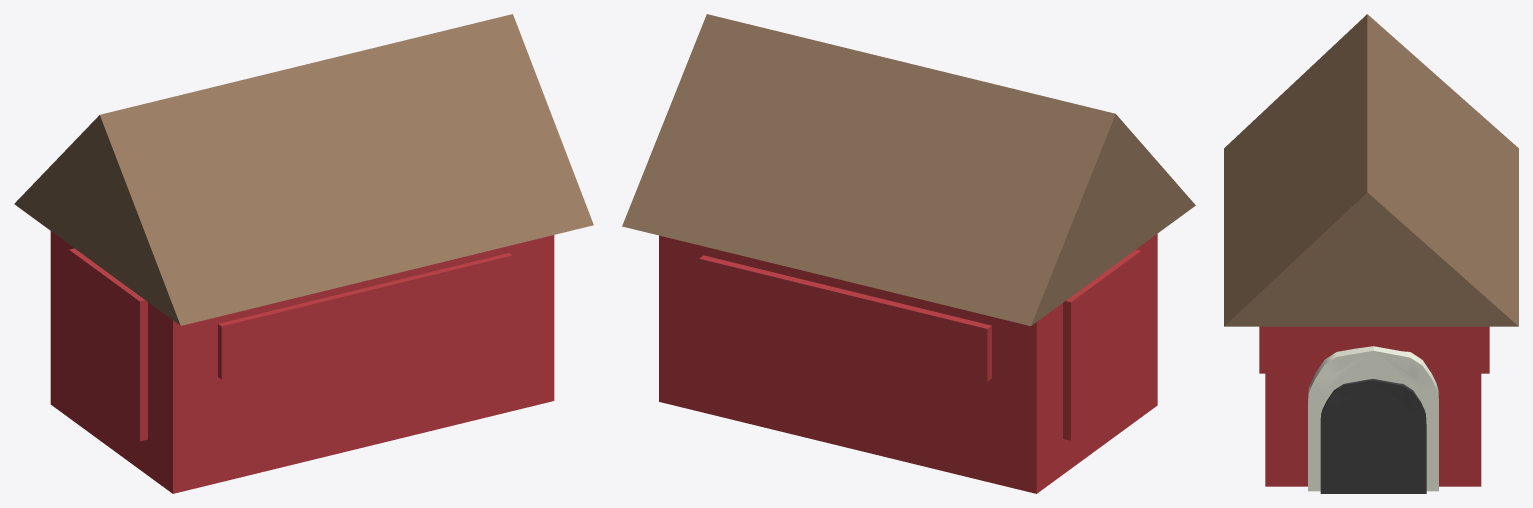
The model's file is dogHouse.glb.
3 renders of one model, left to right at view 1: azimuth 30°, elevation 25°; view 2: azimuth 150°, elevation 25°; view 3: azimuth 270°, elevation 25°, orthographic. The views are drawn at different scales.
Parts seen in each view (by area): view 1: doghouseRoof, doghouseBase1; view 2: doghouseRoof, doghouseBase1; view 3: doghouseRoof, doghouseBase1, doghouseInnerDoor, doghouseOuterDoor.
Part boxes in pixels (<box>): doghouseRoof: <box>14,14,593,325</box>; doghouseBase1: <box>50,231,554,493</box>; doghouseRoof: <box>622,14,1195,325</box>; doghouseBase1: <box>659,234,1157,493</box>; doghouseRoof: <box>1224,14,1518,326</box>; doghouseBase1: <box>1259,326,1489,486</box>; doghouseInnerDoor: <box>1320,379,1426,493</box>; doghouseOuterDoor: <box>1308,346,1438,491</box>.
Size of the model in its own units: 3.62 by 2.84 by 2.52.
